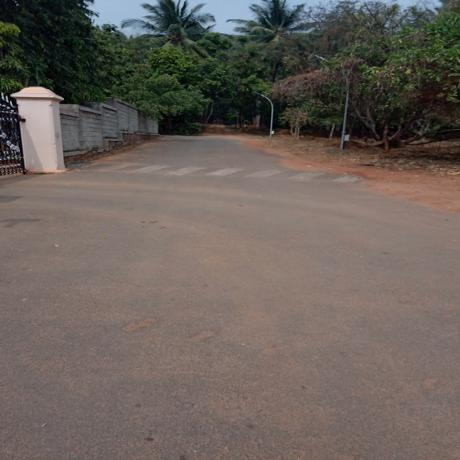Speed Bump: (65, 157, 365, 189)
